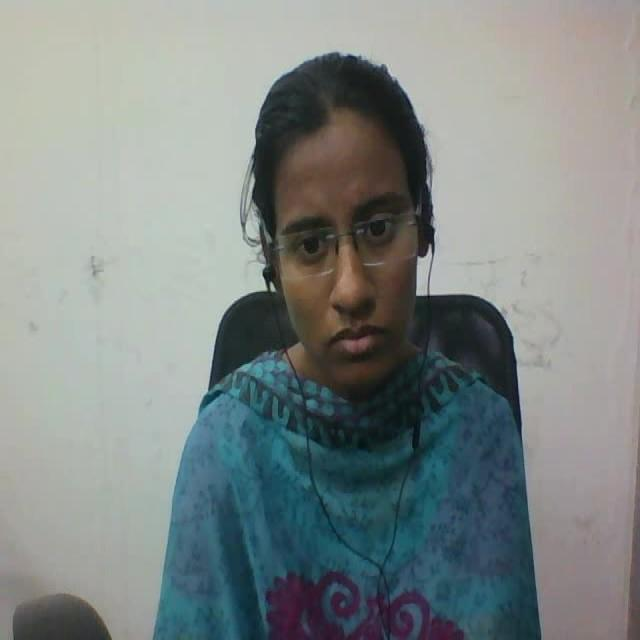Engaged: (205, 14, 468, 416)
